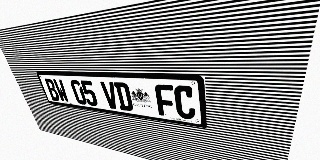0: (69, 80, 88, 105)
5: (80, 80, 99, 107)
B: (43, 78, 61, 101)
C: (173, 85, 196, 120)
D: (113, 82, 134, 111)
F: (154, 84, 176, 117)
V: (100, 81, 120, 110)
W: (52, 79, 70, 103)
